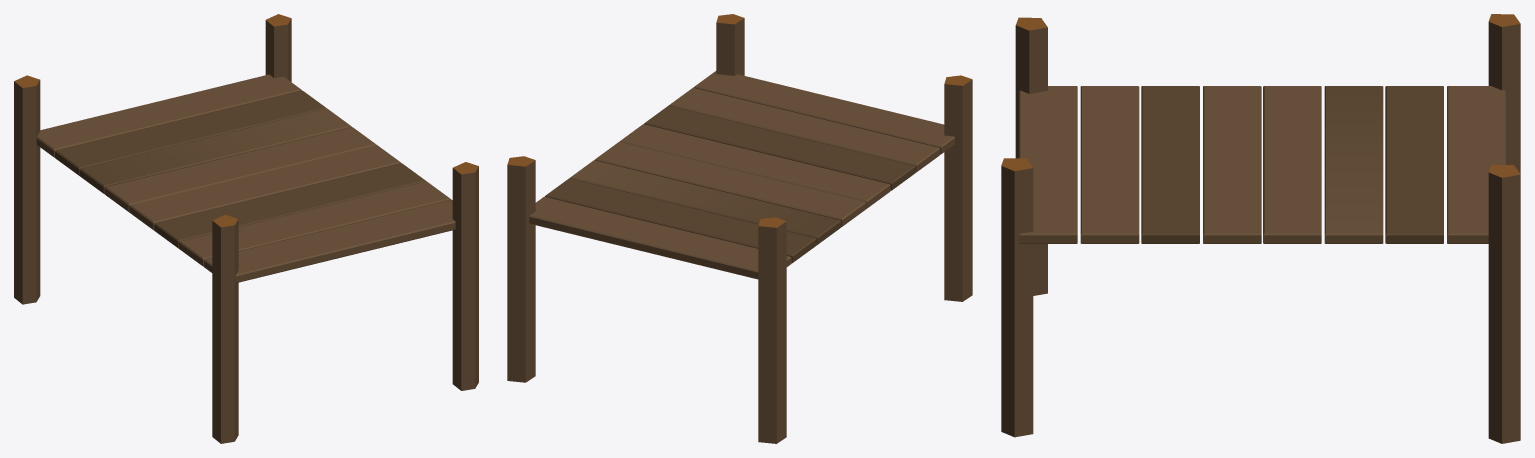
The model's file is WoodenPlatform.fbx.
3 renders of one model, left to right at view 1: azimuth 30°, elevation 25°; view 2: azimuth 150°, elevation 25°; view 3: azimuth 270°, elevation 25°, orthographic. The views are drawn at different scales.
Parts seen in each view (by area): view 1: pCube9; view 2: pCube9; view 3: pCube9.
Part boxes in pixels (x1,y1,x2,y2): pCube9: [14, 14, 478, 443]; pCube9: [507, 14, 972, 443]; pCube9: [1001, 14, 1520, 443].
Bounding box in the file's own units: 165 × 125 × 221.
